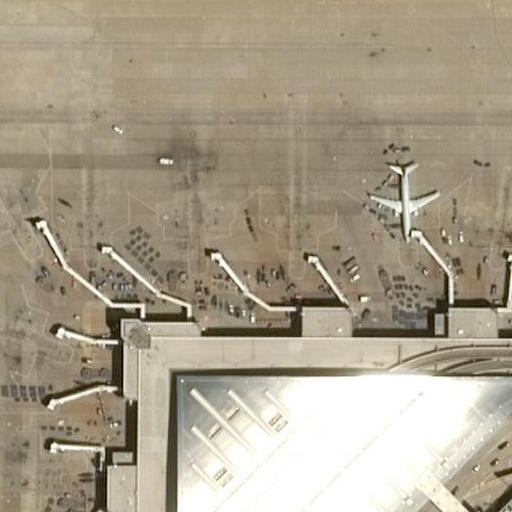Aircraft: (367, 159, 444, 237)
